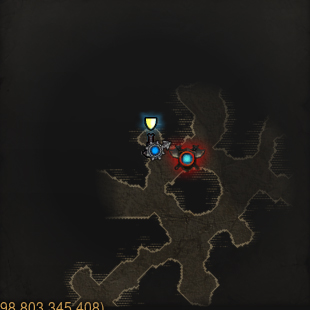ShieldPylon: (140, 114, 160, 153)
